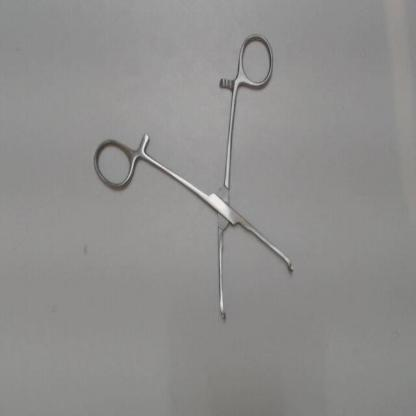Allis Tissue Forceps: (84, 25, 305, 336)
